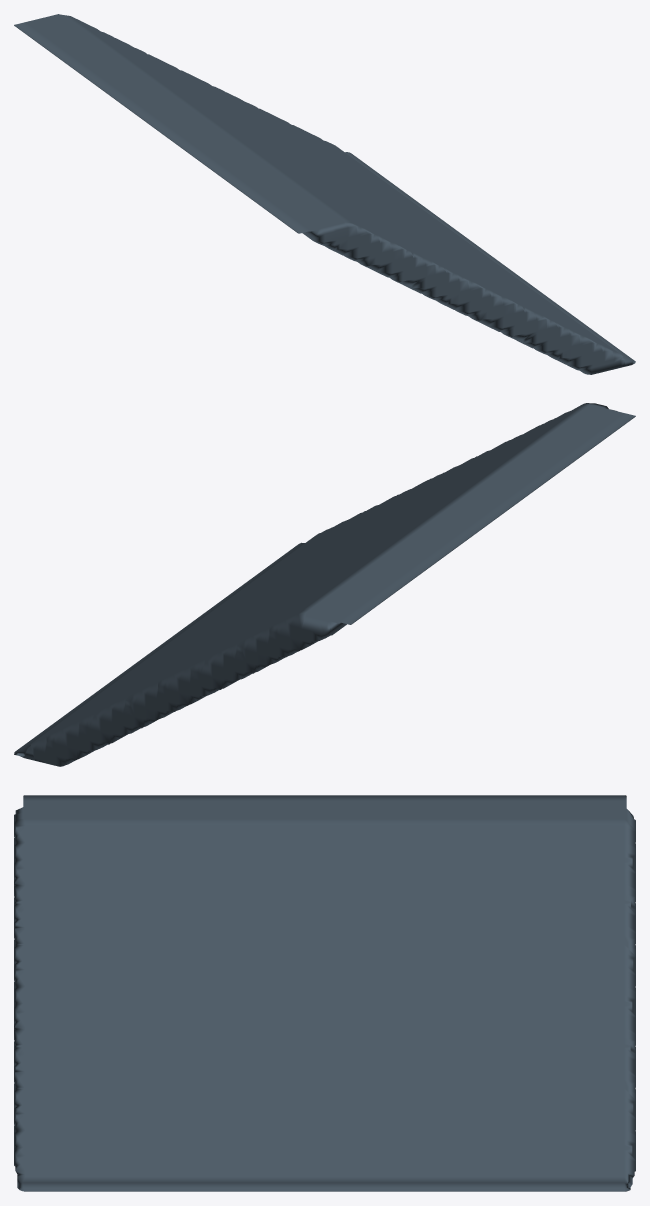
File: windscreen.glb
3 views of the same model, one above another, from view 1: azimuth 30°, elevation 25°; view 2: azimuth 150°, elevation 25°; view 3: azimuth 270°, elevation 25° (orthographic). The views are drawn at different scales.
Visible parts, largest first — view 1: windscreen; view 2: windscreen; view 3: windscreen.
Part boxes in pixels (left/top/right/bottom): windscreen: left=14, top=14, right=635, bottom=374; windscreen: left=14, top=403, right=635, bottom=766; windscreen: left=14, top=795, right=635, bottom=1191.
Size of the model in its own units: 8.21 by 4.95 by 12.4.
